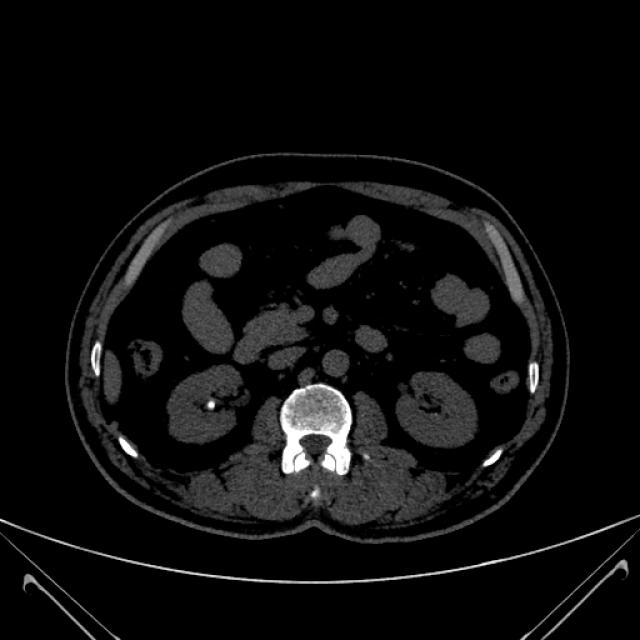kidneystone: (202, 399, 215, 411)
